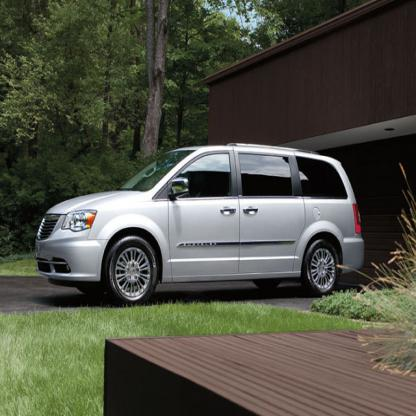Vehicle: (35, 140, 367, 309)
